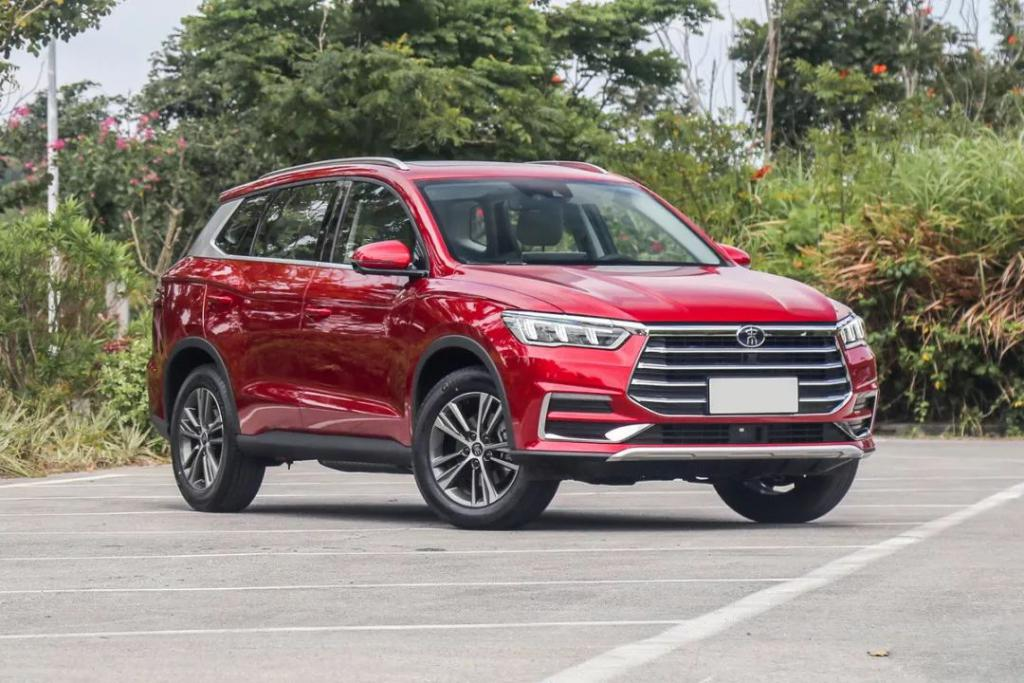red: (150, 157, 878, 530)
